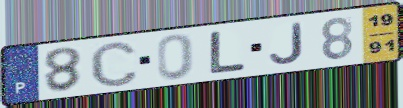0: (154, 32, 196, 82)
8: (42, 46, 84, 94), (320, 16, 355, 61)
C: (88, 39, 141, 89)
J: (267, 21, 306, 66)
L: (207, 29, 248, 75)
